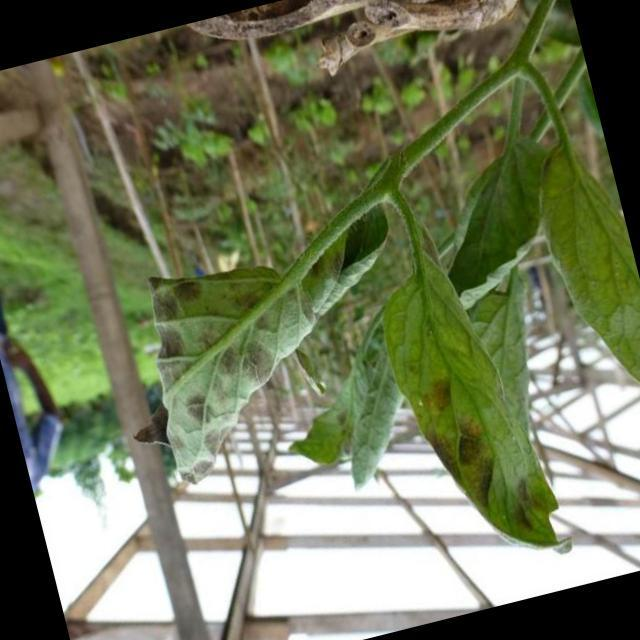Leaf Mold: (363, 236, 576, 610), (110, 230, 350, 492), (520, 131, 639, 428)
